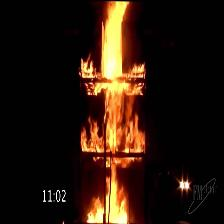fire: (96, 3, 131, 223)
